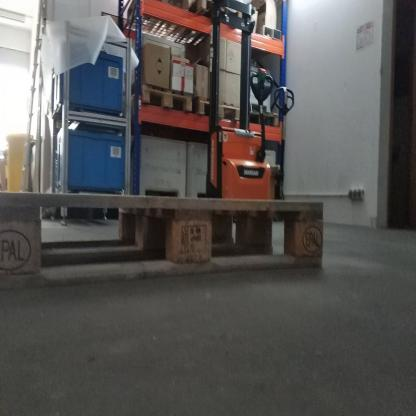BoxFace: (1, 187, 328, 292)
